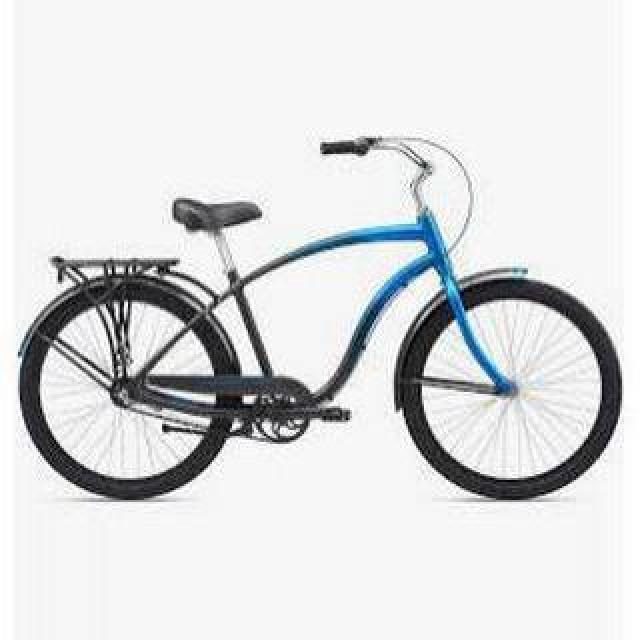Person: (16, 124, 634, 502)
